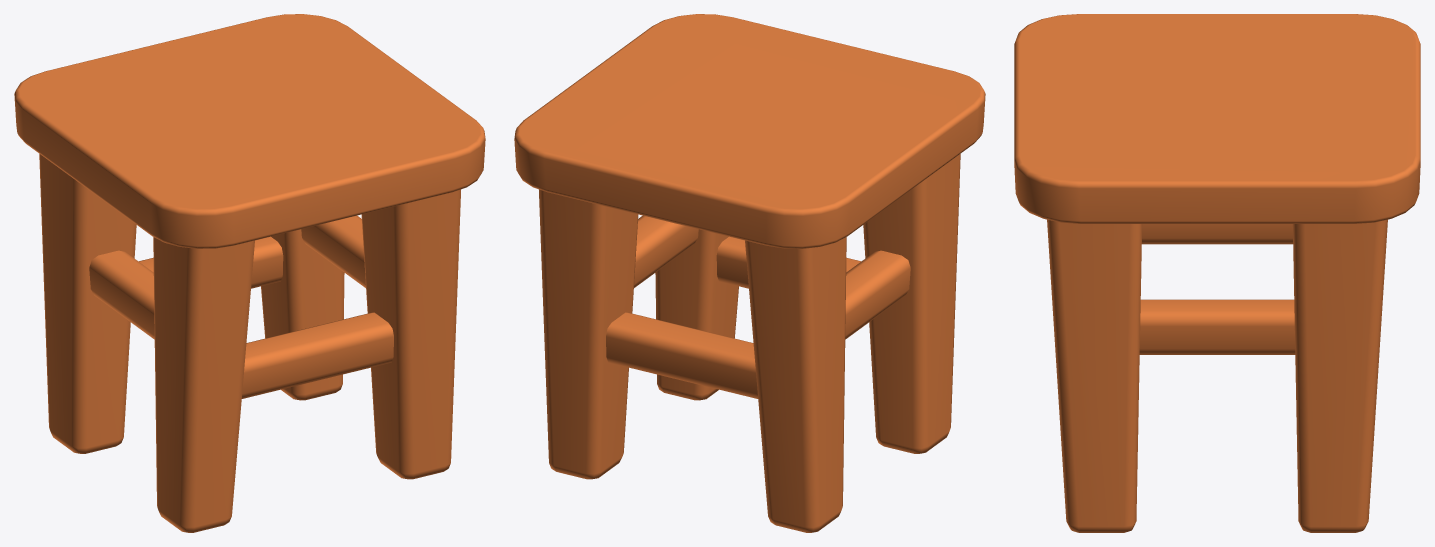
File: Stool.glb
The picture shows the model from 3 angles, left to right: view 1: azimuth 30°, elevation 25°; view 2: azimuth 150°, elevation 25°; view 3: azimuth 270°, elevation 25°; orthographic projection. The views are drawn at different scales.
Parts seen in each view (by area): view 1: Stool; view 2: Stool; view 3: Stool.
Part boxes in pixels (box(x1,y1,x2,y2)): Stool: box(14, 14, 485, 532); Stool: box(514, 14, 985, 532); Stool: box(1014, 14, 1420, 532).
Bounding box in the file's own units: 0.624 × 0.6268 × 0.6254.
